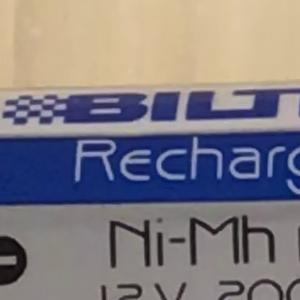keyword: (99, 205, 276, 278)
